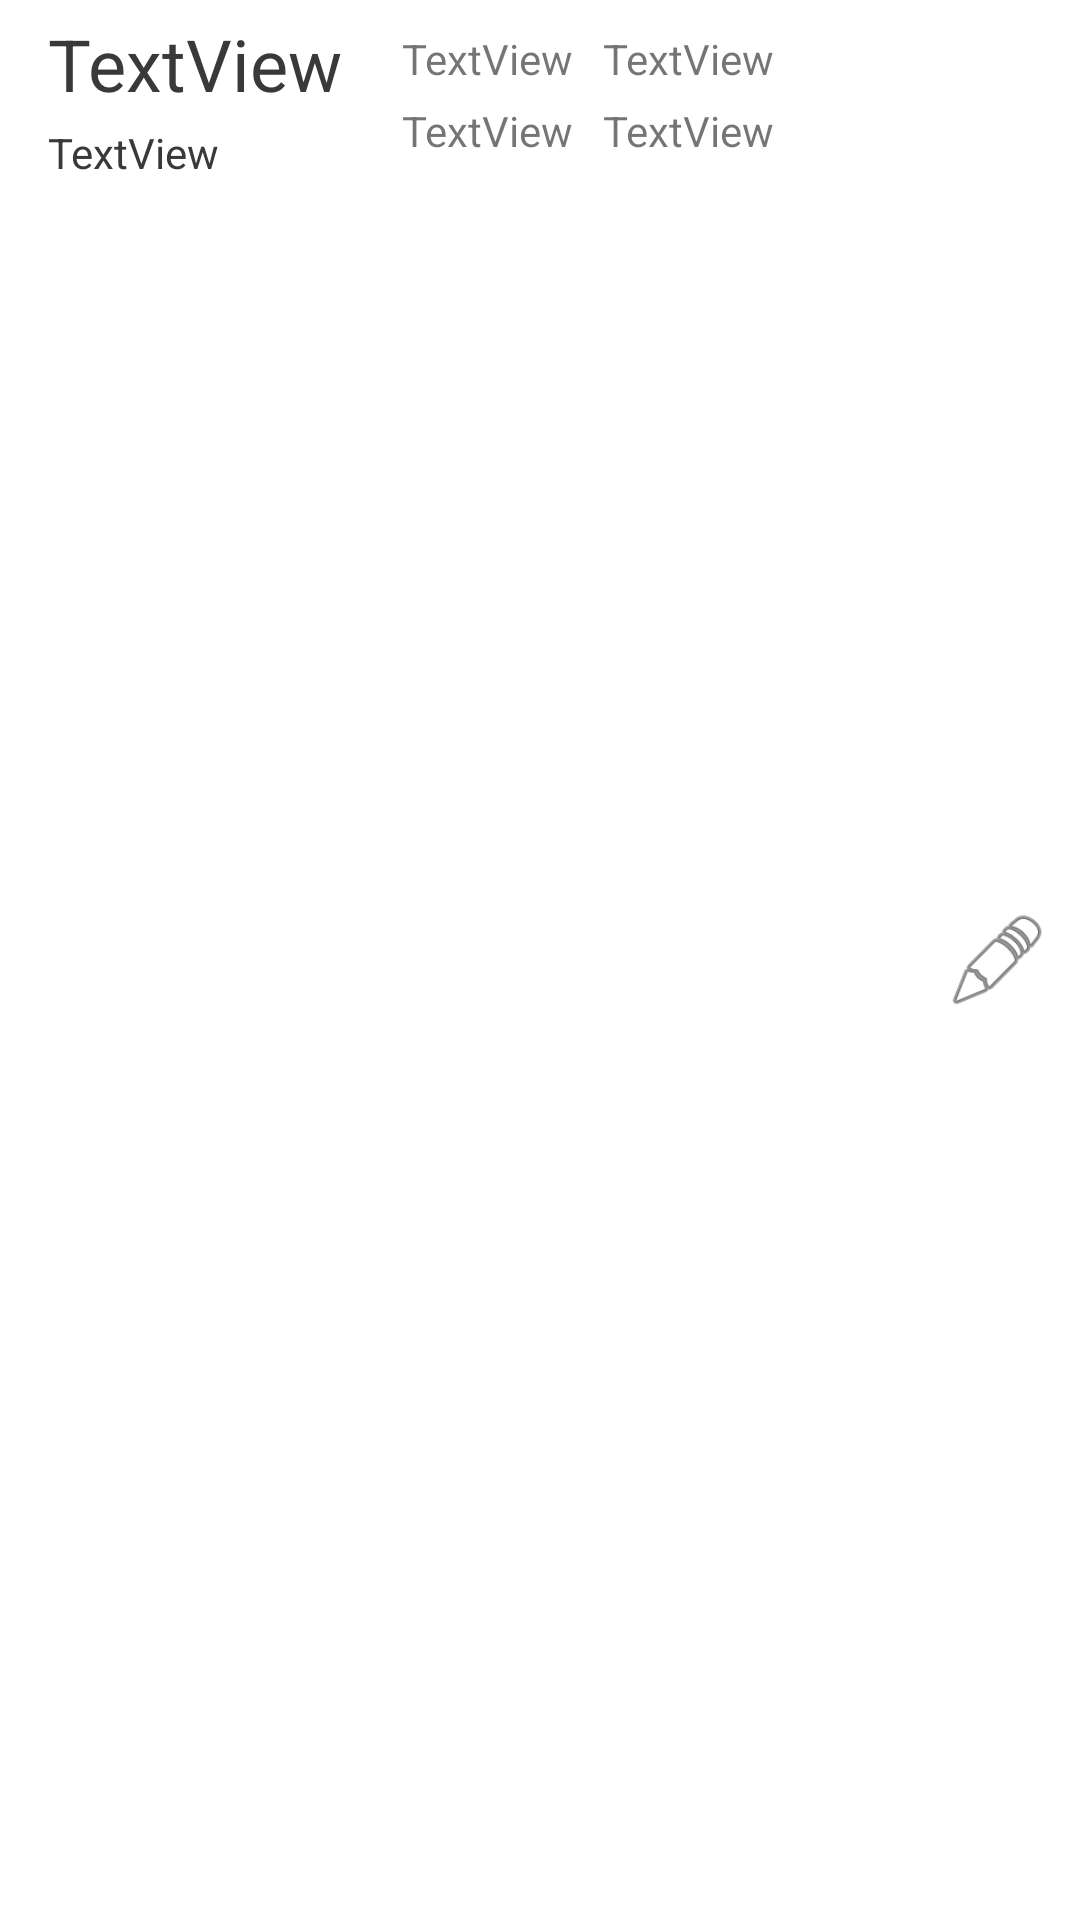

Icons on this 1080 x 1920 Android screen, each with its box as (x1, y1, x2, y2):
edit: (953, 915, 1042, 1004)
